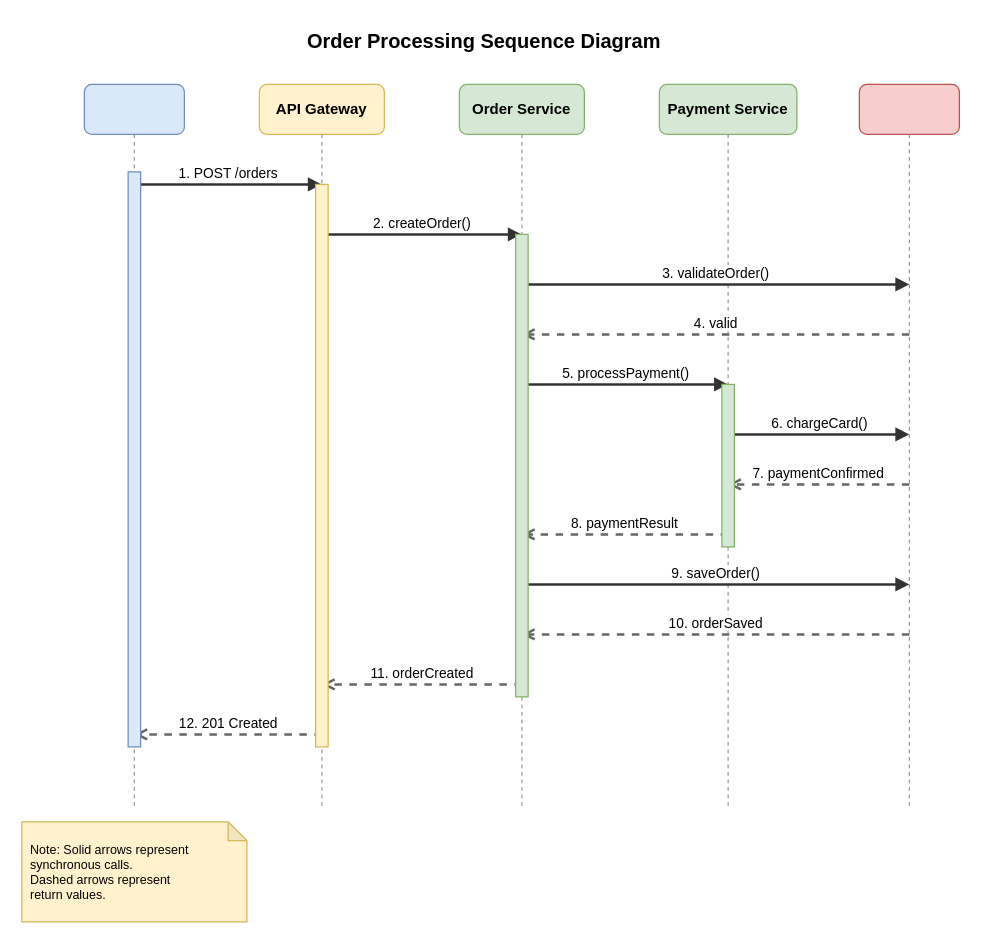
This 981x944 diagram has some shape labels left out. Each missing label, with the centre of its shape:
"Client" goes at point 133,108.
"Database" goes at point 908,108.
